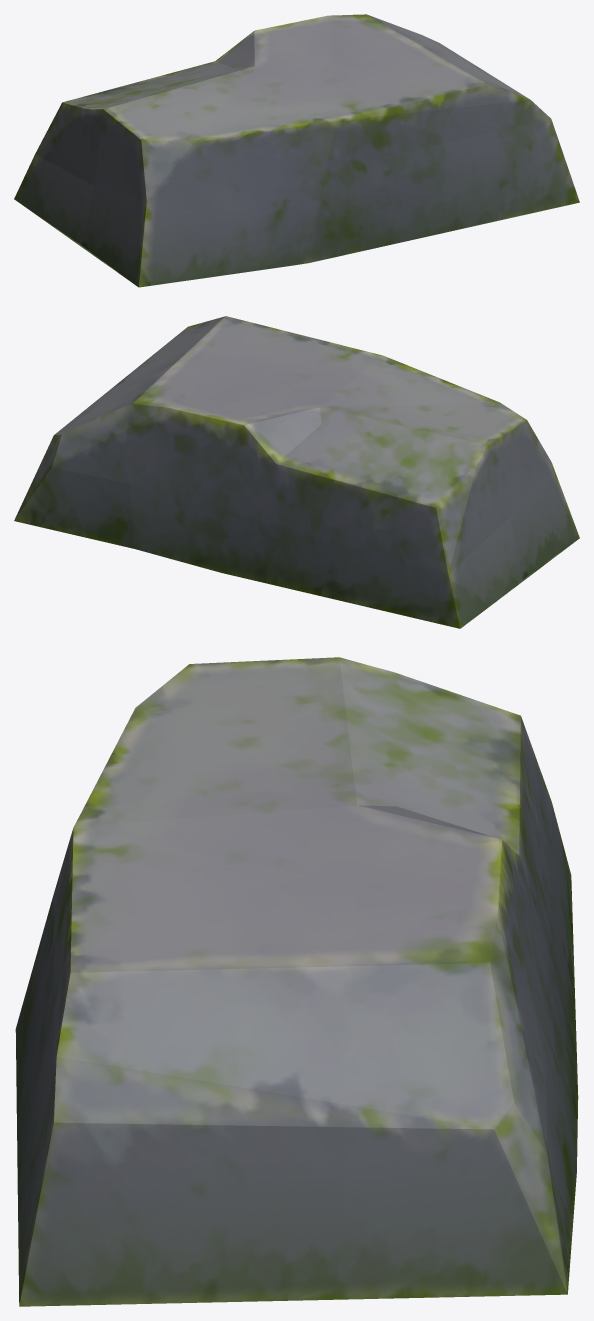
The model's file is Pebble_Square_6.glb.
3 renders of one model, top to bottom at view 1: azimuth 30°, elevation 25°; view 2: azimuth 150°, elevation 25°; view 3: azimuth 270°, elevation 25°, orthographic. The views are drawn at different scales.
Visible parts, largest first — view 1: Pebble_Square_6; view 2: Pebble_Square_6; view 3: Pebble_Square_6.
Part boxes in pixels (box(x1,y1,x2,y2)): Pebble_Square_6: box(14, 14, 579, 287); Pebble_Square_6: box(14, 316, 579, 628); Pebble_Square_6: box(15, 657, 578, 1306).
Bounding box in the file's own units: 0.462 × 0.1378 × 0.2629.
Materials: 1 (1 with a texture image).
